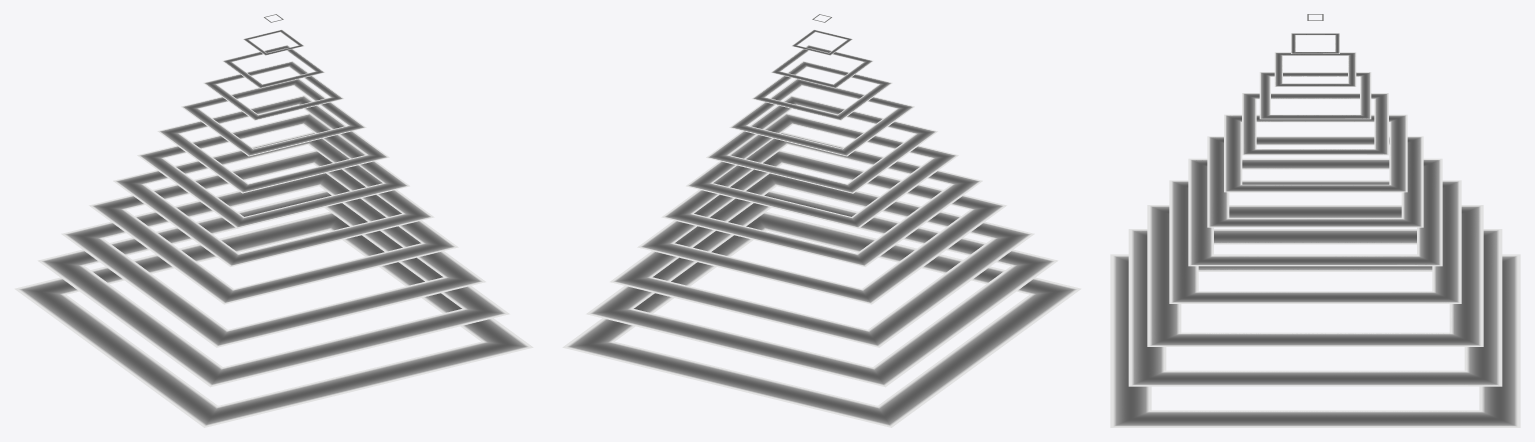
3 renders of one model, left to right at view 1: azimuth 30°, elevation 25°; view 2: azimuth 150°, elevation 25°; view 3: azimuth 270°, elevation 25°, orthographic. The views are drawn at different scales.
Parts seen in each view (by area): view 1: Polygonal_Geometry; view 2: Polygonal_Geometry; view 3: Polygonal_Geometry.
Boxes of the visible parts, x1,y1,x2,y2 form: Polygonal_Geometry: (14,14,533,427); Polygonal_Geometry: (562,14,1081,427); Polygonal_Geometry: (1110,14,1520,427).
Size of the model in its own units: 50.02 by 43.49 by 50.02.
